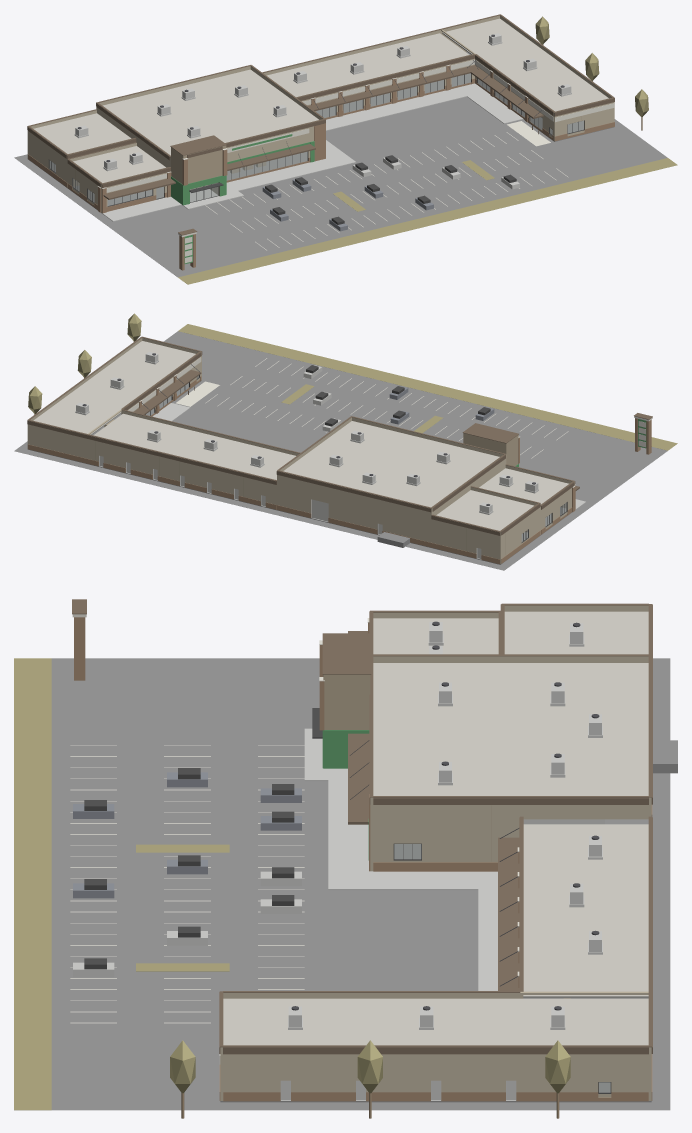
File: clay-anchored-plaza-supermarket-clay-v006.glb
3 views of the same model, one above another, from view 1: azimuth 30°, elevation 25°; view 2: azimuth 150°, elevation 25°; view 3: azimuth 270°, elevation 25° (orthographic). The views are drawn at different scales.
Parts seen in each view (by area): view 1: CLAY_FOUNDATION, CLAY_ROOF, CLAY_CAP, CLAY_WALL, CLAY_PALE, CLAY_PLANTING, CLAY_CREAM, CLAY_STONE, CLAY_GLASS, CLAY_TRIM, CLAY_TAN, CLAY_GREEN (+1 smaller); view 2: CLAY_FOUNDATION, CLAY_ROOF, CLAY_WALL, CLAY_CAP, CLAY_PLANTING, CLAY_PALE, CLAY_STONE, CLAY_CREAM, CLAY_TAN, CLAY_TRIM; view 3: CLAY_FOUNDATION, CLAY_ROOF, CLAY_WALL, CLAY_PLANTING, CLAY_CAP, CLAY_PALE, CLAY_STONE, CLAY_CREAM, CLAY_TRIM, CLAY_CAR, CLAY_TAN, CLAY_GREEN.
Part boxes in pixels (bbox=[...]): CLAY_FOUNDATION: bbox=[14, 52, 667, 277]; CLAY_ROOF: bbox=[33, 18, 608, 182]; CLAY_CAP: bbox=[27, 14, 614, 235]; CLAY_WALL: bbox=[27, 15, 614, 212]; CLAY_PALE: bbox=[74, 33, 571, 221]; CLAY_PLANTING: bbox=[178, 16, 677, 284]; CLAY_CREAM: bbox=[97, 59, 614, 263]; CLAY_STONE: bbox=[28, 65, 614, 270]; CLAY_GLASS: bbox=[49, 73, 583, 205]; CLAY_TRIM: bbox=[48, 73, 584, 224]; CLAY_TAN: bbox=[171, 145, 266, 195]; CLAY_GREEN: bbox=[171, 134, 314, 263]; CLAY_FOUNDATION: bbox=[14, 331, 667, 570]; CLAY_ROOF: bbox=[33, 341, 568, 530]; CLAY_WALL: bbox=[27, 338, 574, 564]; CLAY_CAP: bbox=[27, 336, 652, 535]; CLAY_PLANTING: bbox=[28, 313, 677, 450]; CLAY_PALE: bbox=[75, 352, 585, 559]; CLAY_STONE: bbox=[27, 375, 651, 564]; CLAY_CREAM: bbox=[128, 357, 652, 487]; CLAY_TAN: bbox=[104, 419, 518, 466]; CLAY_TRIM: bbox=[145, 365, 567, 542]; CLAY_FOUNDATION: bbox=[51, 658, 677, 1110]; CLAY_ROOF: bbox=[223, 611, 648, 1045]; CLAY_WALL: bbox=[220, 605, 651, 1100]; CLAY_PLANTING: bbox=[14, 658, 570, 1110]; CLAY_CAP: bbox=[72, 599, 652, 1054]; CLAY_PALE: bbox=[73, 622, 604, 1100]; CLAY_STONE: bbox=[74, 617, 652, 1101]; CLAY_CREAM: bbox=[70, 614, 519, 1064]; CLAY_TRIM: bbox=[84, 708, 611, 1093]; CLAY_CAR: bbox=[73, 772, 301, 898]; CLAY_TAN: bbox=[323, 674, 570, 998]; CLAY_GREEN: bbox=[322, 730, 369, 860].
Size of the model in its own units: 117 by 11.3 by 70.8.
